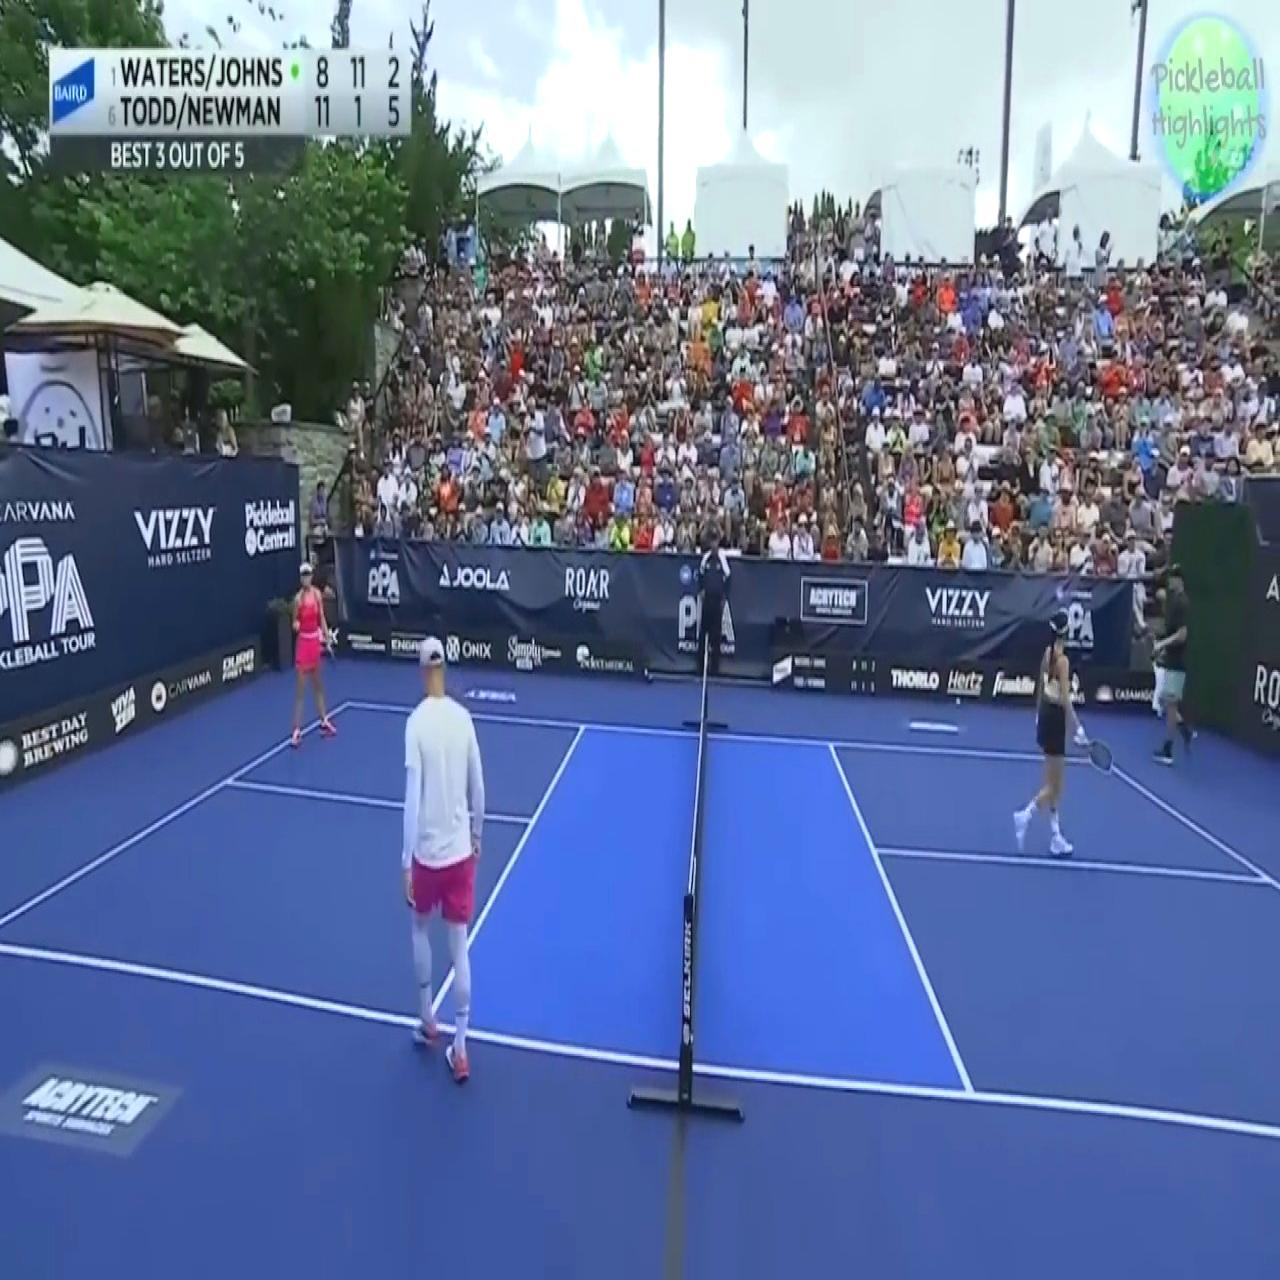Pickleball: (954, 689, 964, 712)
